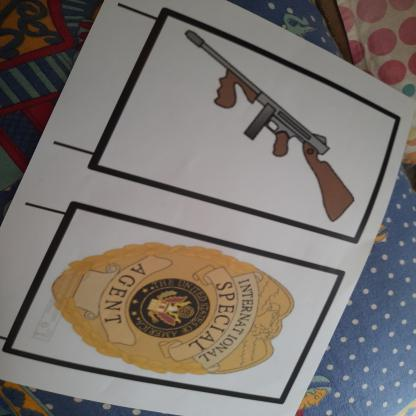Bootlegger: (161, 23, 366, 240)
G-man: (47, 224, 303, 397)
